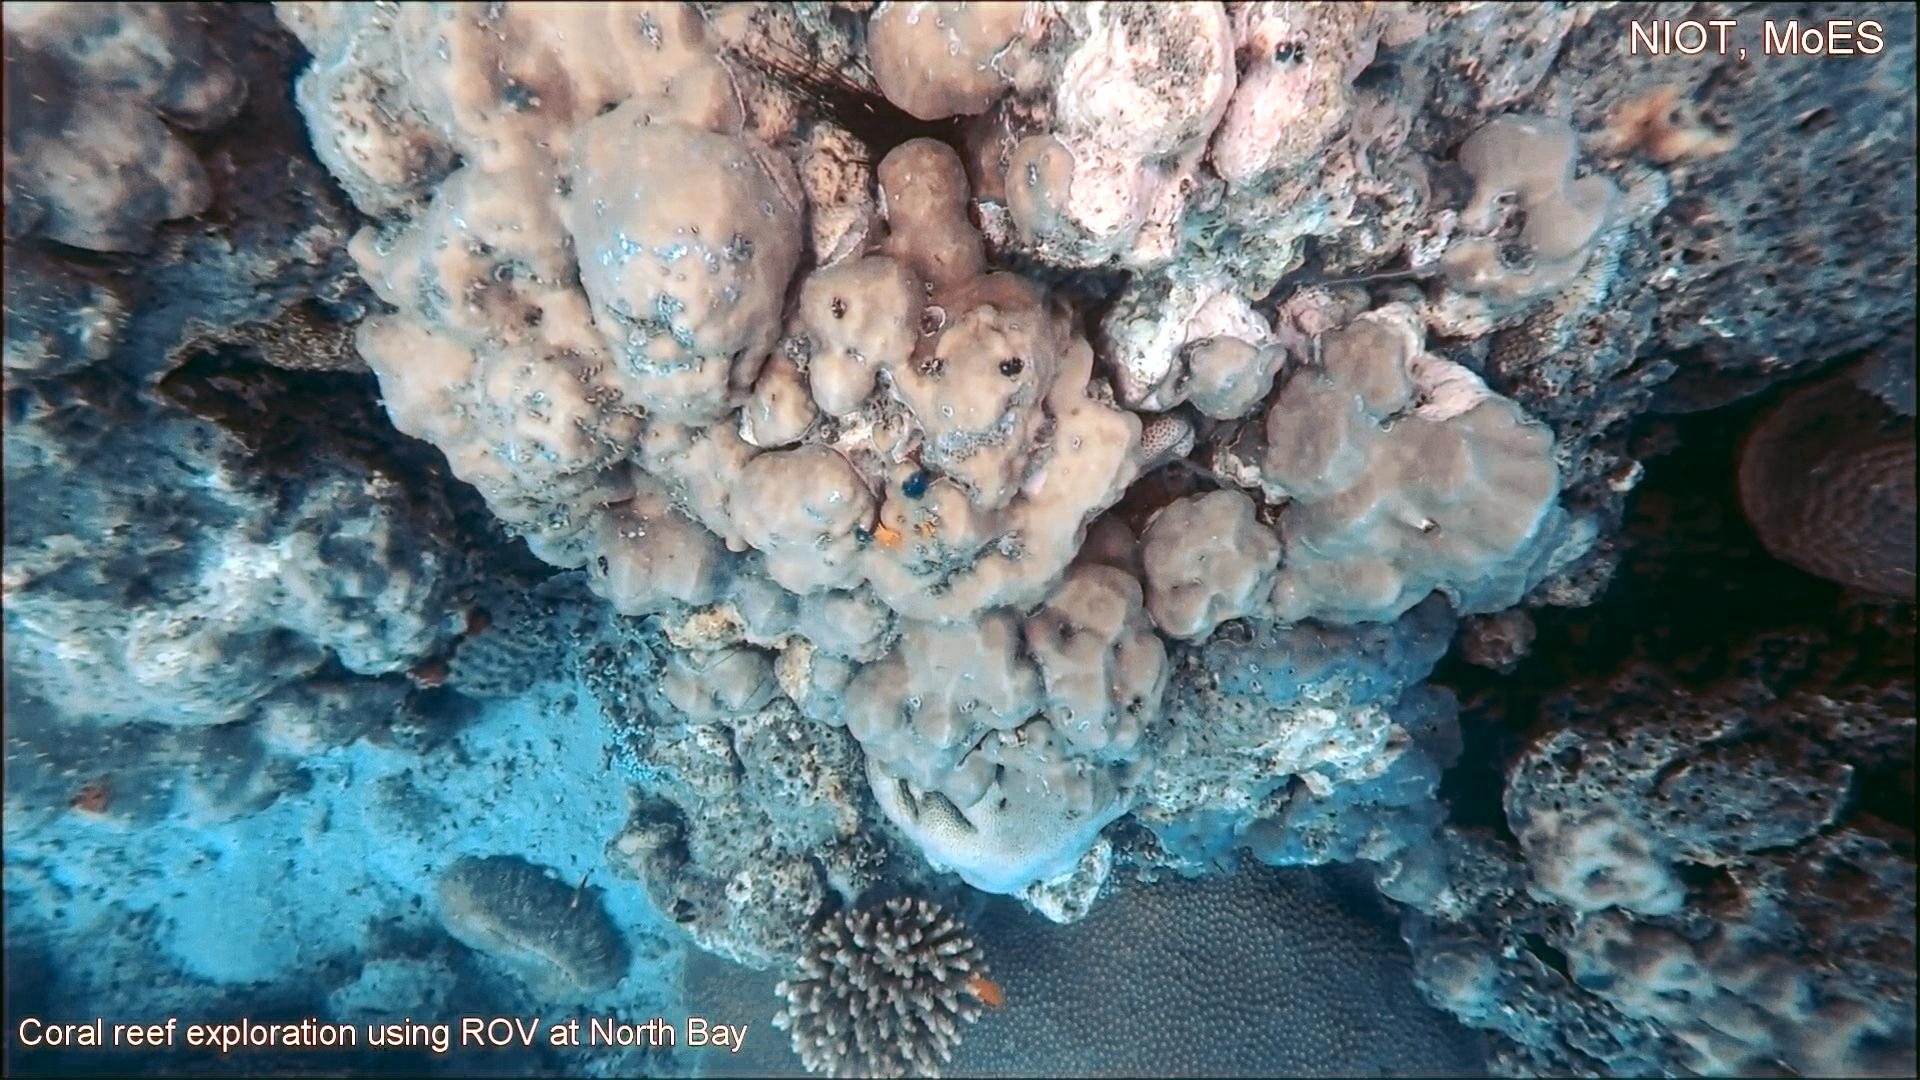Meandrina meandrites: (1727, 347, 1920, 605)
